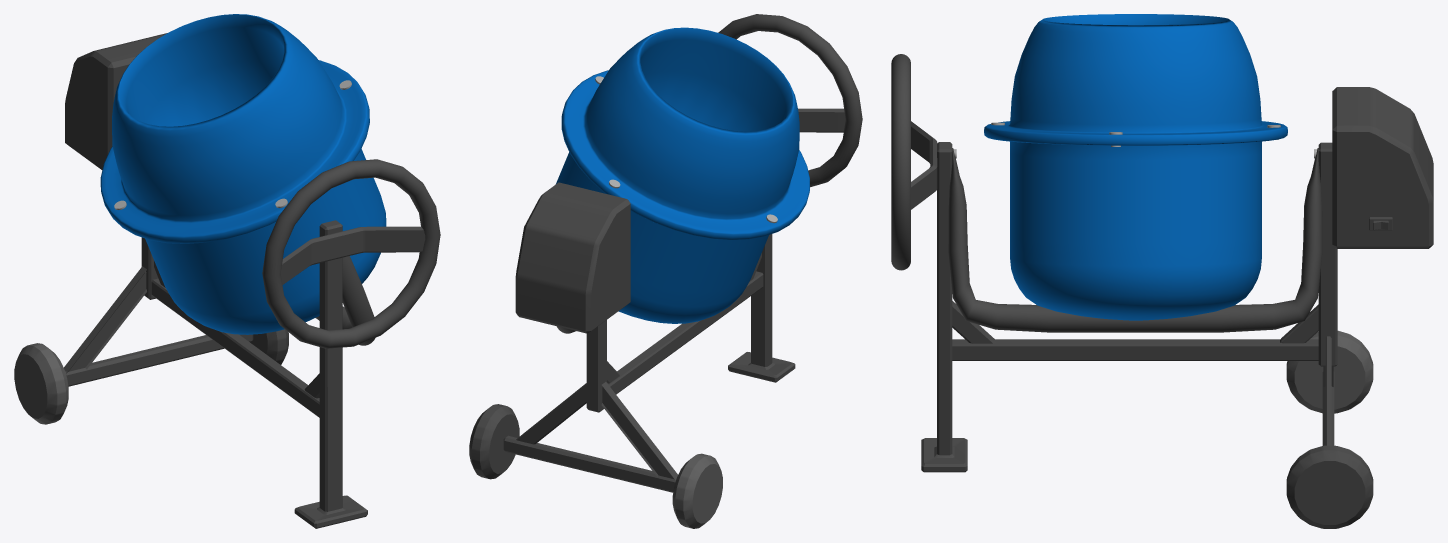
The model's file is cementy.fbx.
The picture shows the model from 3 angles, left to right: view 1: azimuth 30°, elevation 25°; view 2: azimuth 150°, elevation 25°; view 3: azimuth 270°, elevation 25°; orthographic projection. The views are drawn at different scales.
Visible parts, largest first — view 1: pCylinder1, pTorus1, pCube2, pCube10, pCube1, pCylinder10, pCube3, pCube9, pCube8, q1, pCylinder9, pCube5; view 2: pCylinder1, pCube10, pTorus1, pCube2, pCylinder10, pCube9, pCylinder9, pCube3, pCube8, pCube5, pCube7, pCube1; view 3: pCylinder1, pCube10, q1, pCube3, pCube2, pCylinder9, pTorus1, pCylinder10, pCube5, pCube1, pCube4, pCube6 (+1 smaller).
Part boxes in pixels (x1,y1,x2,y2): pCylinder1: (100,14,386,334); pTorus1: (262,159,440,348); pCube2: (294,220,367,528); pCube10: (65,33,167,169); pCube1: (280,226,425,284); pCylinder10: (14,343,68,424); pCube3: (151,278,319,417); pCube9: (65,334,253,386); pCube8: (64,266,146,373); q1: (315,256,375,345); pCylinder9: (250,329,288,364); pCube5: (141,237,158,299); pCylinder1: (555,27,809,323); pCube10: (515,182,630,333); pTorus1: (718,14,862,187); pCube2: (728,234,795,382); pCylinder10: (672,453,722,528); pCube9: (503,435,675,492); pCylinder9: (469,404,519,479); pCube3: (607,271,763,394); pCube8: (601,382,677,480); pCube5: (586,320,606,412); pCube7: (516,383,586,444); pCube1: (798,108,845,132); pCylinder1: (984,14,1287,320); pCube10: (1332,87,1433,248); q1: (948,148,1322,332); pCube3: (952,339,1318,360); pCube2: (921,142,967,472); pCylinder9: (1286,445,1373,528); pTorus1: (891,54,910,270); pCylinder10: (1286,330,1373,413); pCube5: (1318,142,1337,366); pCube1: (911,121,937,209); pCube4: (952,301,995,343); pCube6: (1280,304,1318,343).
Size of the model in its own units: 2.43 by 3.98 by 4.25.
